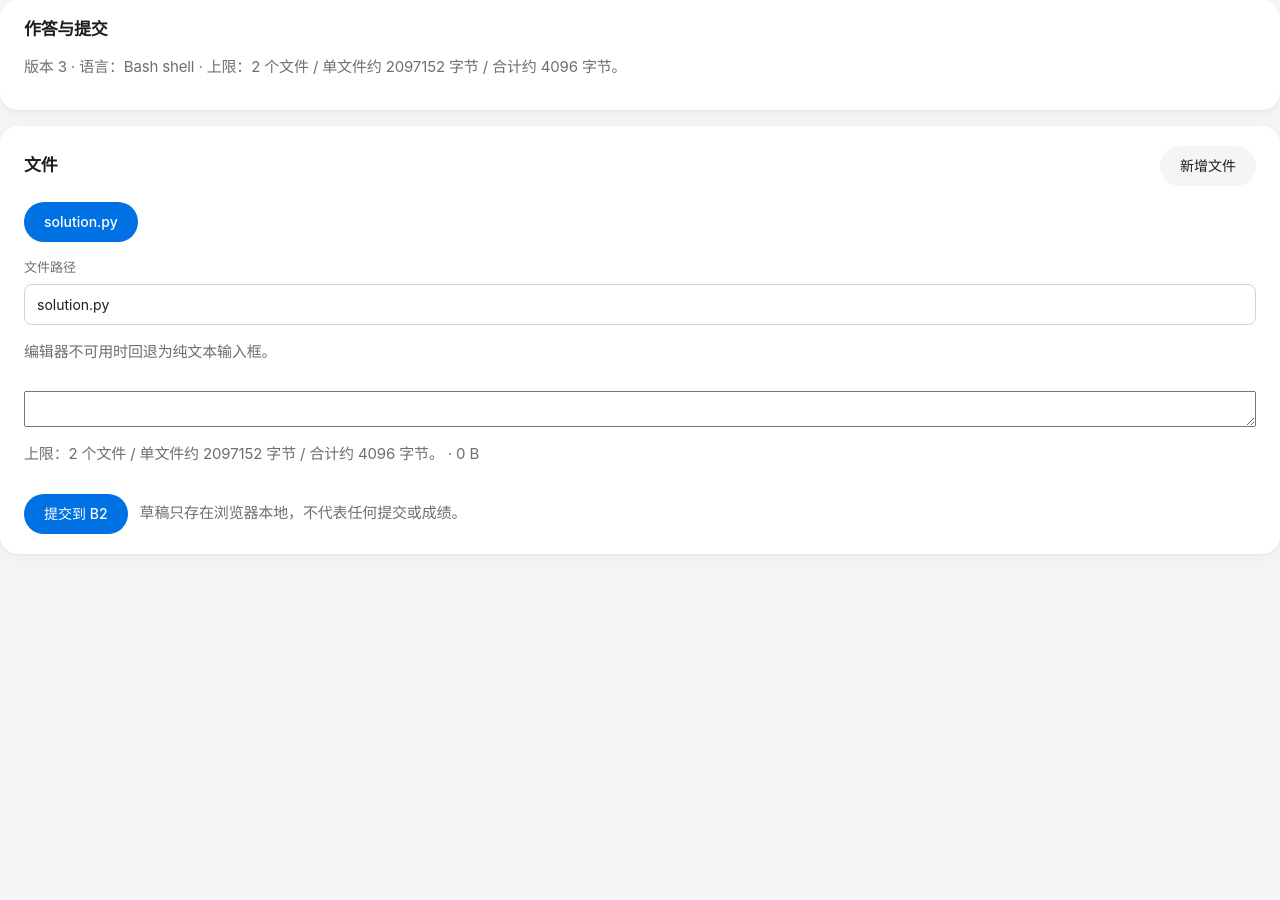
Test: 作答与提交（RQ-B-1-50） › 断线重连：重放的历史帧不会重复展示，进度停在最高 sequence
This screenshot has width=1280, height=900.
Expected: the field with test id "active-file-path" holds "solution.py", 24,284 -> 1256,324
Step 1. Type "print(1)" into the text box with test id "code-editor-fallback" → (640, 409), box 24,391 -> 1256,427
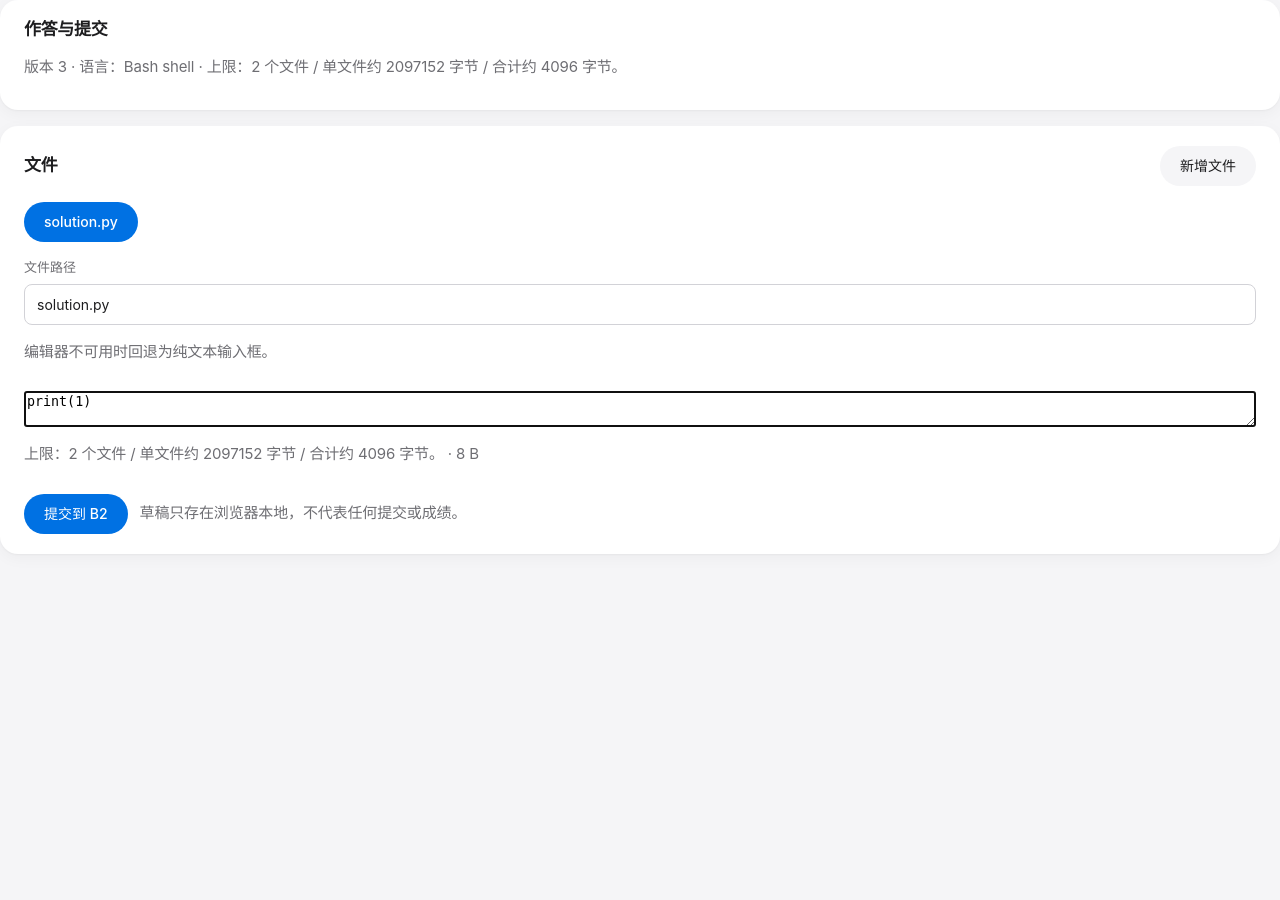
Step 2. Click the button with test id "submit-answer" → click(76, 514), box 24,494 -> 128,534
(page scrolled)
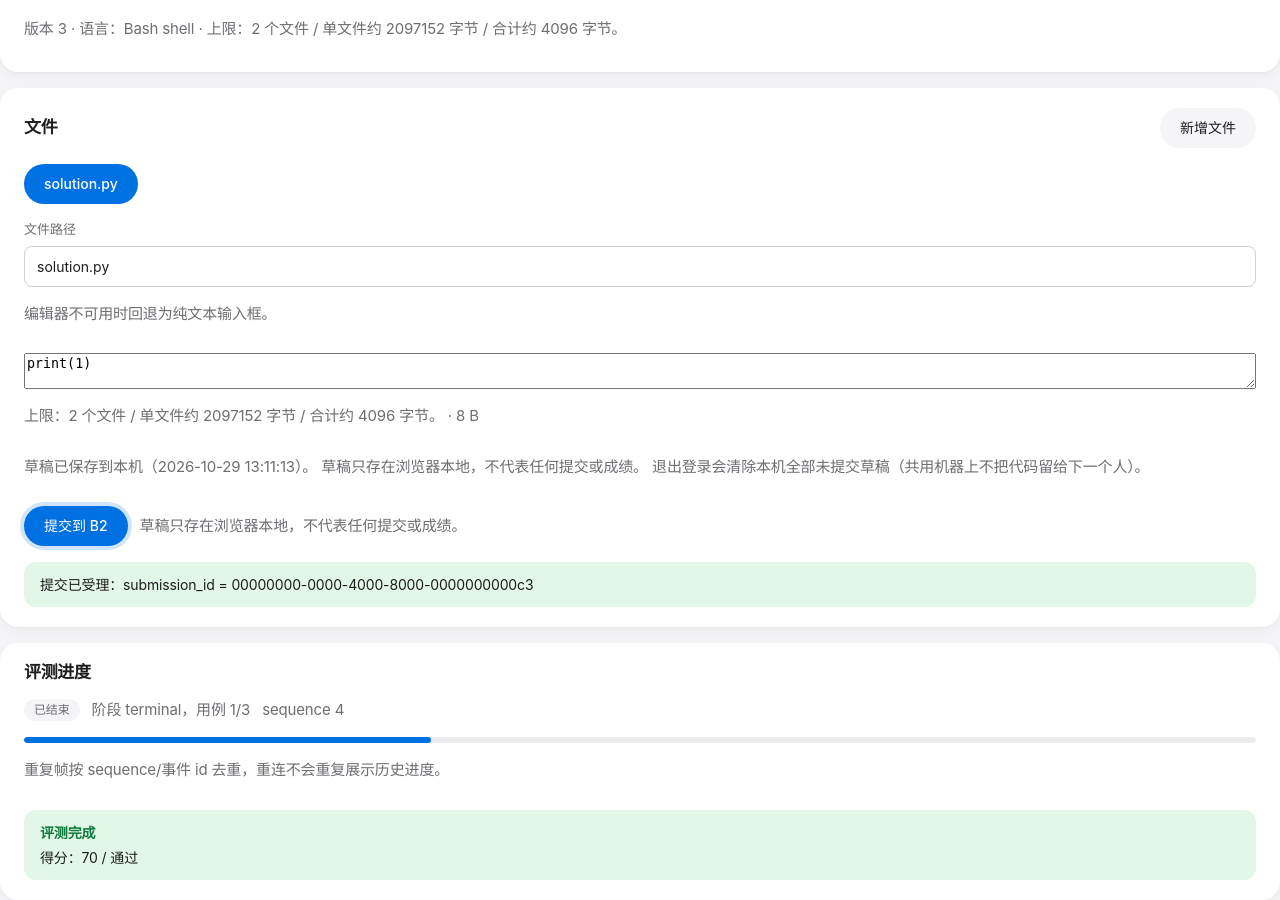
Expected: the element with test id "terminal-completed" is shown, 24,810 -> 1256,880
Expected: the element with test id "progress-panel" shows "sequence 4", 24,699 -> 1256,880
